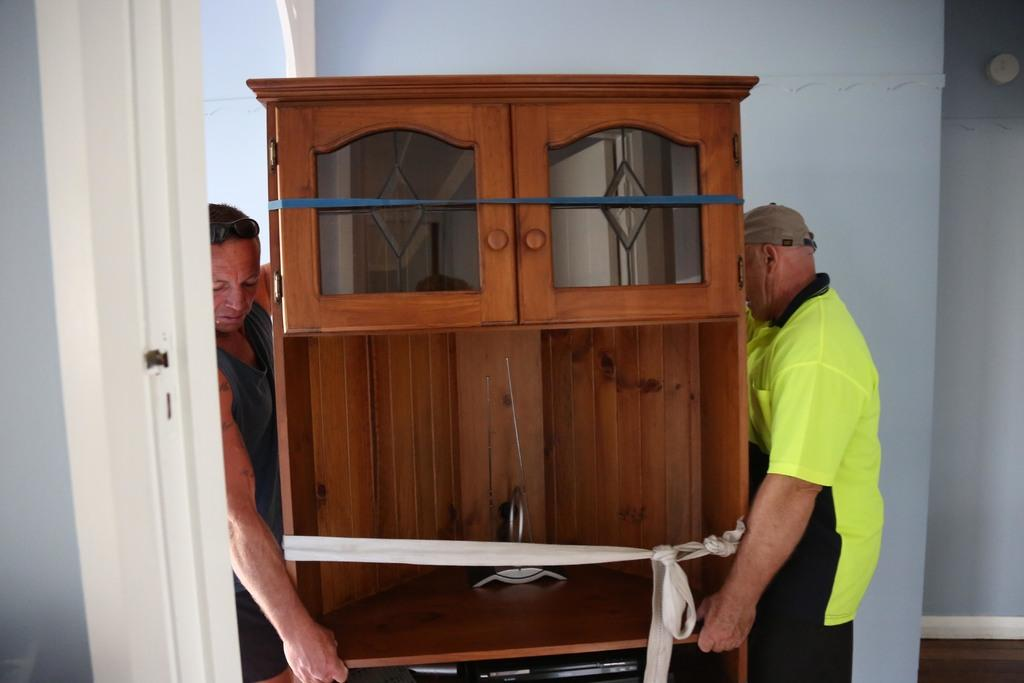cabinet_door: (275, 112, 511, 320), (514, 110, 738, 311)
handle: (479, 226, 509, 255), (520, 225, 546, 257)
